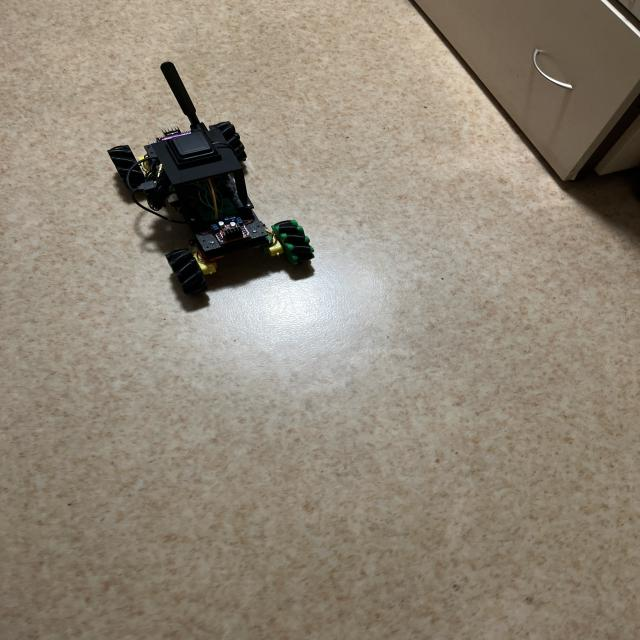robot: (108, 62, 314, 293)
